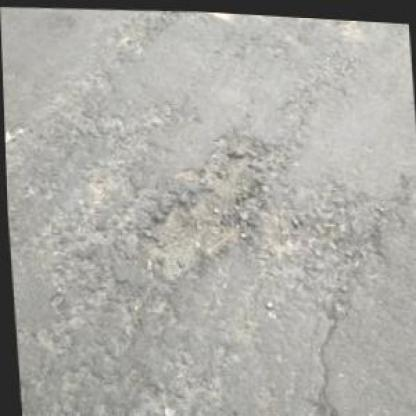pothole: (132, 116, 301, 284)
